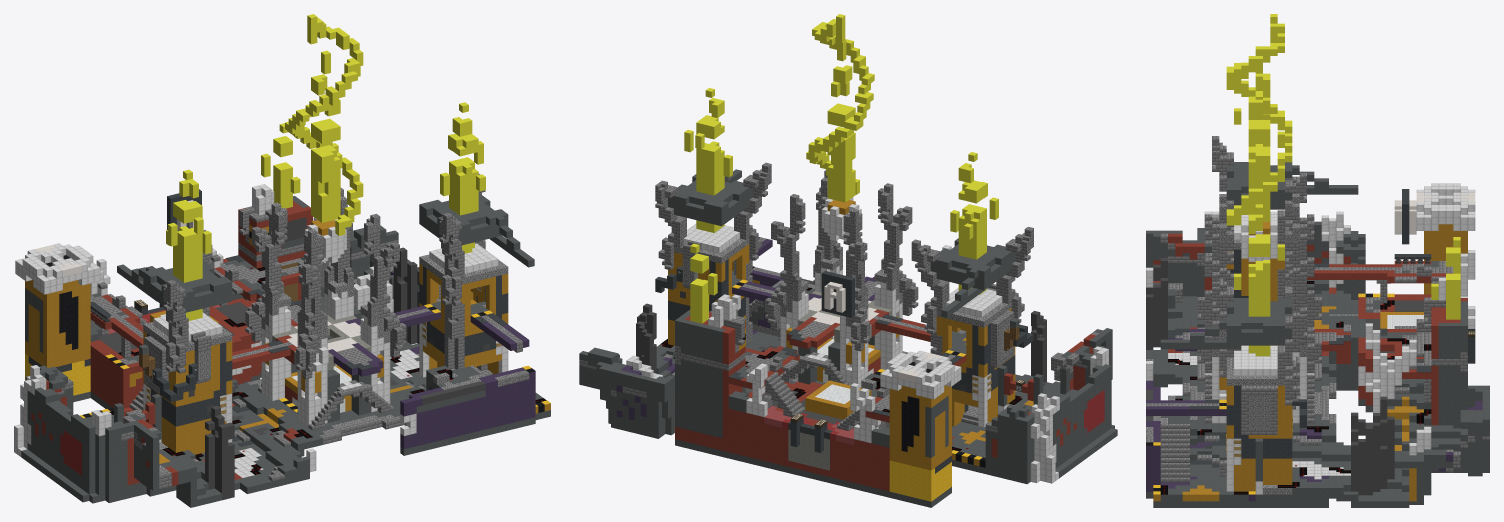
Rendered from minecraft.obj.
3 views of the same model, side by side, from view 1: azimuth 30°, elevation 25°; view 2: azimuth 150°, elevation 25°; view 3: azimuth 270°, elevation 25° (orthographic). The views are drawn at different scales.
Size of the model in its own units: 70 by 61 by 47.
